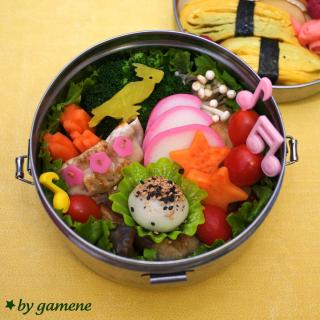tomato: (227, 144, 268, 183), (196, 205, 232, 243), (227, 111, 259, 141), (67, 195, 99, 221)
